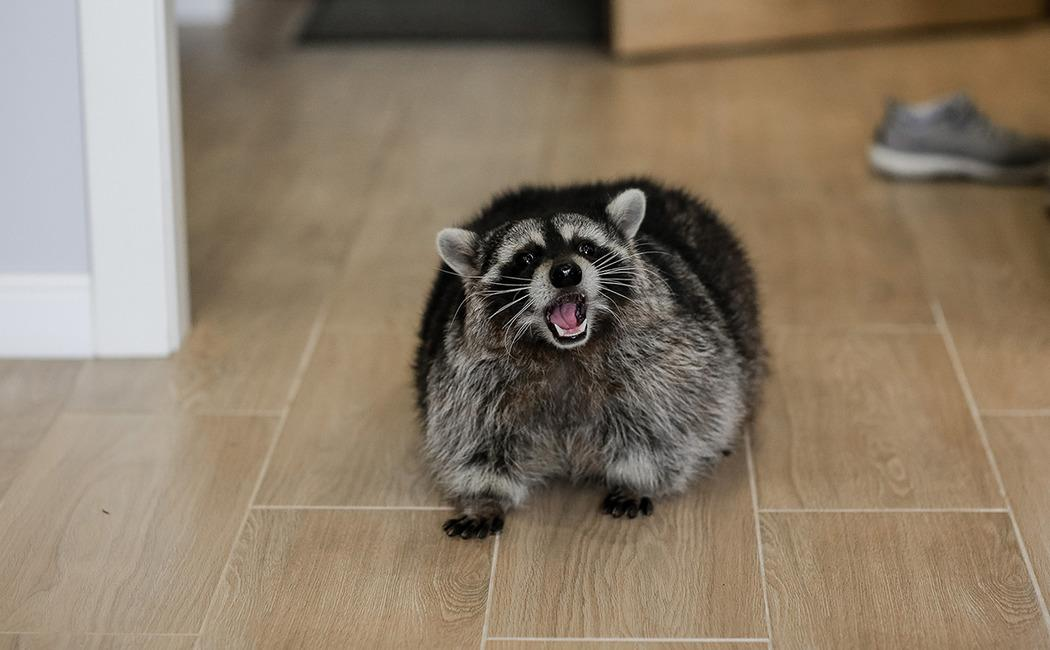raccoon: (417, 178, 763, 541)
